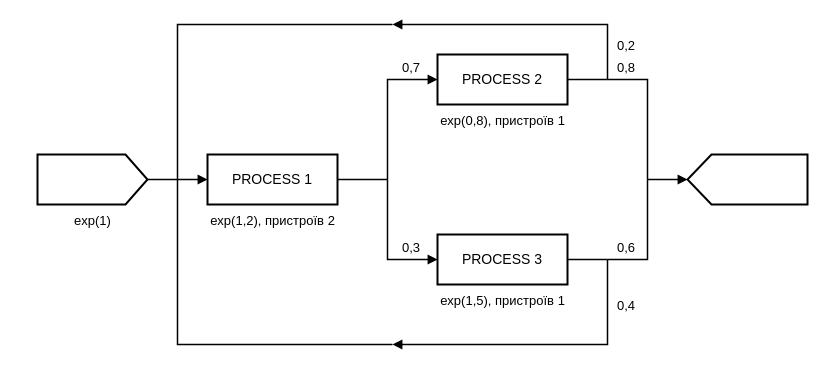
The diagram is 825 pixels wide and 371 high, and some of its shapes have lost their labels. The box of each missing label's shape, as (x1, y1, x2, y2) in pixels:
CREATE: (36, 153, 148, 205)
DISPOSE: (686, 153, 808, 205)
